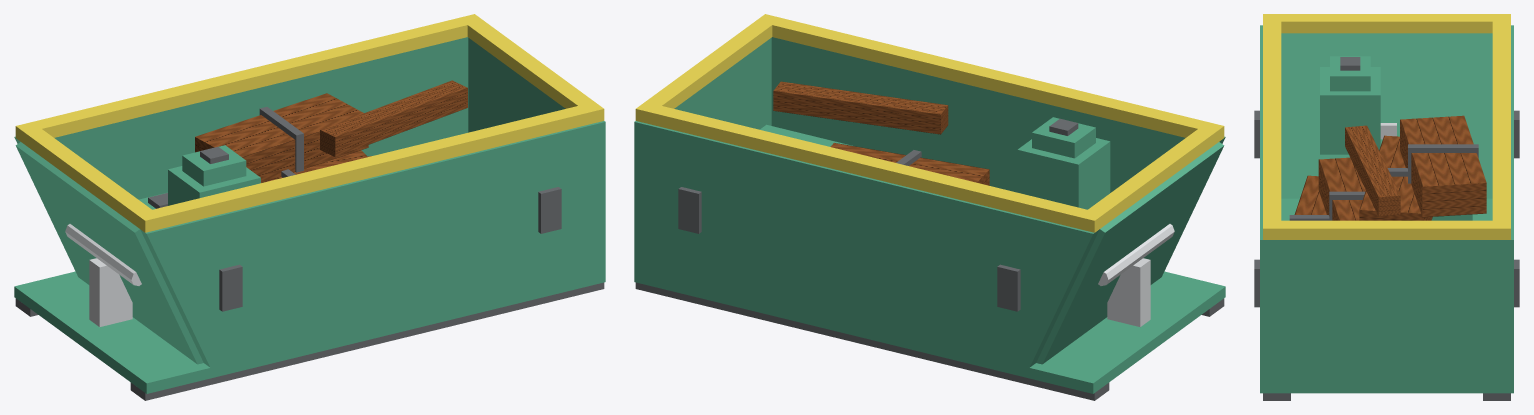
The model's file is recycling-and-waste-transfer-yard-recycling-and-waste--a3072ee6__34896.glb.
3 views of the same model, side by side, from view 1: azimuth 30°, elevation 25°; view 2: azimuth 150°, elevation 25°; view 3: azimuth 270°, elevation 25° (orthographic). The views are drawn at different scales.
Parts seen in each view (by area): view 1: recycling-and-waste-transfer-yard-open-top-skip-loaded-garde (×5); view 2: recycling-and-waste-transfer-yard-open-top-skip-loaded-garde (×5); view 3: recycling-and-waste-transfer-yard-open-top-skip-loaded-garde (×4).
Boxes of the visible parts, x1=… form: recycling-and-waste-transfer-yard-open-top-skip-loaded-garde (×5): x1=14, y1=14, x2=605, y2=400; recycling-and-waste-transfer-yard-open-top-skip-loaded-garde (×5): x1=634, y1=14, x2=1225, y2=400; recycling-and-waste-transfer-yard-open-top-skip-loaded-garde (×4): x1=1254, y1=14, x2=1519, y2=400.
Size of the model in its own units: 3.64 by 1.4 by 1.88.
5 materials, 1 textured.
